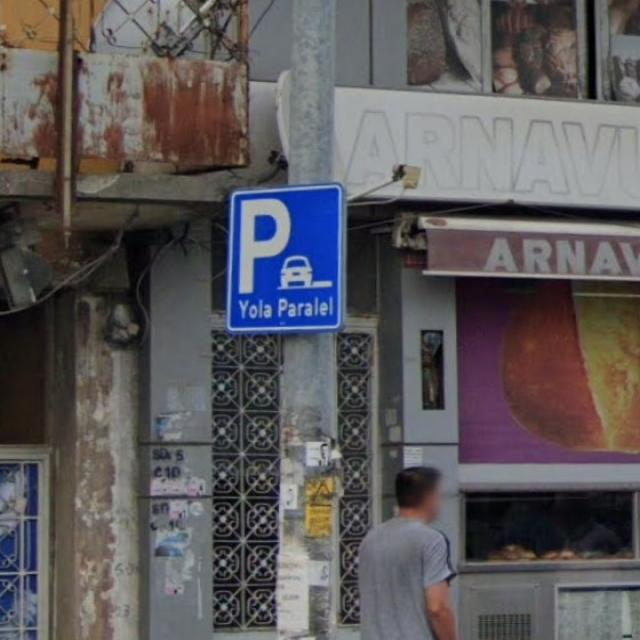park: (228, 183, 340, 329)
